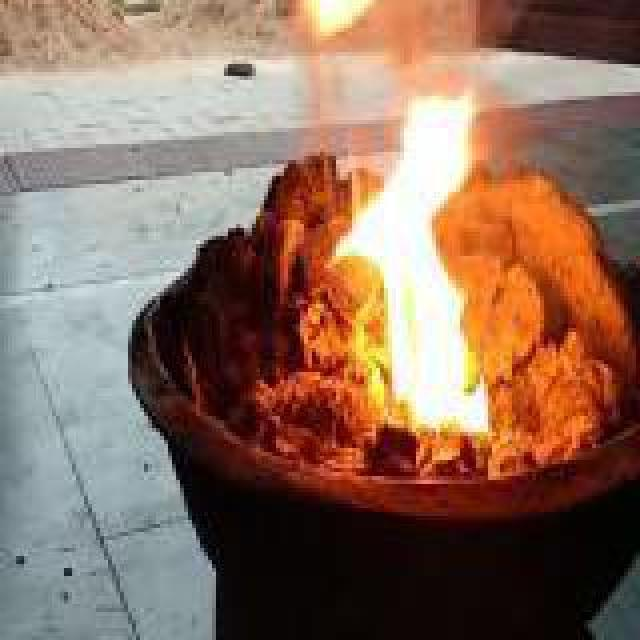smoke: (388, 0, 532, 96)
